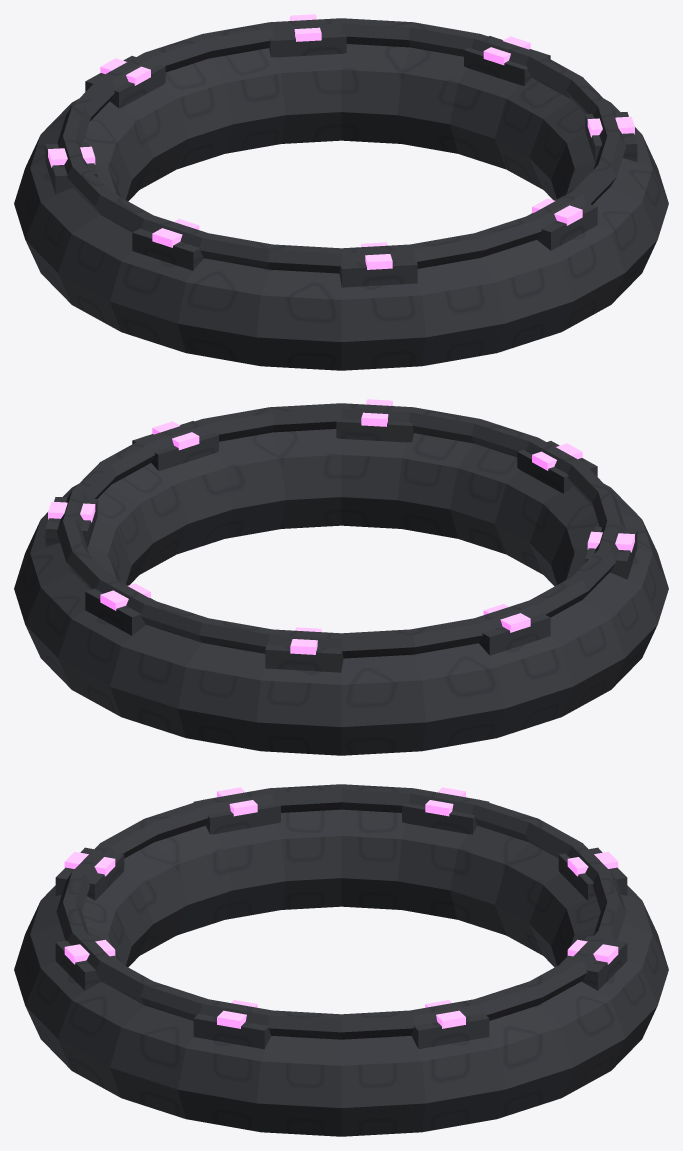
Rendered from Reacteur_Anti_Matiere_Anneau.glb.
3 views of the same model, one above another, from view 1: azimuth 30°, elevation 25°; view 2: azimuth 150°, elevation 25°; view 3: azimuth 270°, elevation 25° (orthographic).
Parts seen in each view (by area): view 1: Reacteur_Anti_Matiere_Anneau; view 2: Reacteur_Anti_Matiere_Anneau; view 3: Reacteur_Anti_Matiere_Anneau.
Boxes of the visible parts, x1=… form: Reacteur_Anti_Matiere_Anneau: x1=14, y1=14, x2=668, y2=370; Reacteur_Anti_Matiere_Anneau: x1=14, y1=399, x2=668, y2=755; Reacteur_Anti_Matiere_Anneau: x1=14, y1=784, x2=668, y2=1136.
Bounding box in the file's own units: 7.7 × 1.53 × 7.7.
2 materials, 1 textured.
